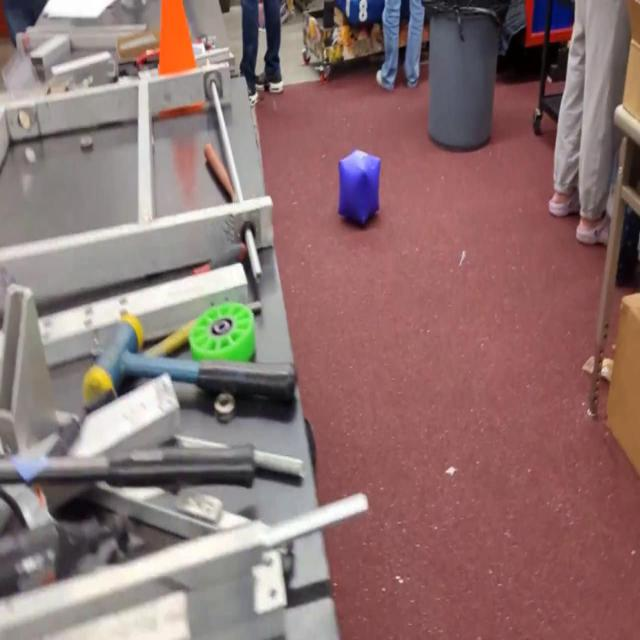frc_cube: (336, 146, 385, 225)
